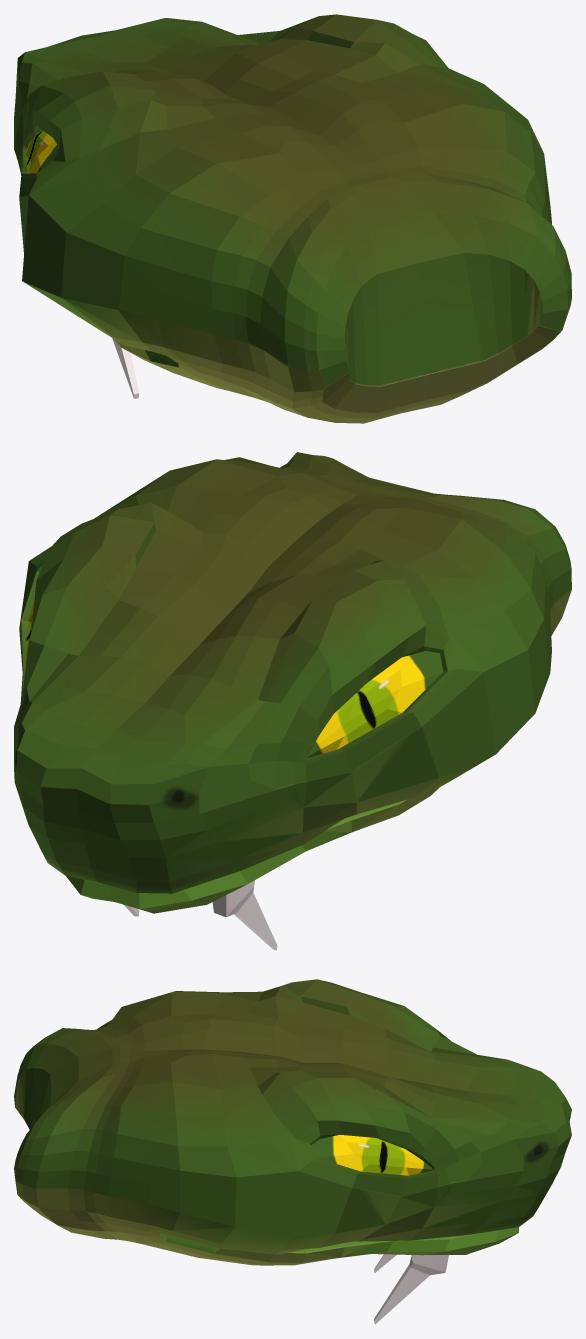
Rendered from snak.blend_toimiva.glb.
The picture shows the model from 3 angles, top to bottom: view 1: azimuth 30°, elevation 25°; view 2: azimuth 150°, elevation 25°; view 3: azimuth 270°, elevation 25°; orthographic projection. The views are drawn at different scales.
Parts seen in each view (by area): view 1: Head_final; view 2: Head_final; view 3: Head_final.
Boxes of the visible parts, <box> form: Head_final: <box>14,14,571,423</box>; Head_final: <box>14,452,571,950</box>; Head_final: <box>14,979,571,1324</box>.
Size of the model in its own units: 1.6 by 1.15 by 2.16.
Materials: 1 (1 with a texture image).
